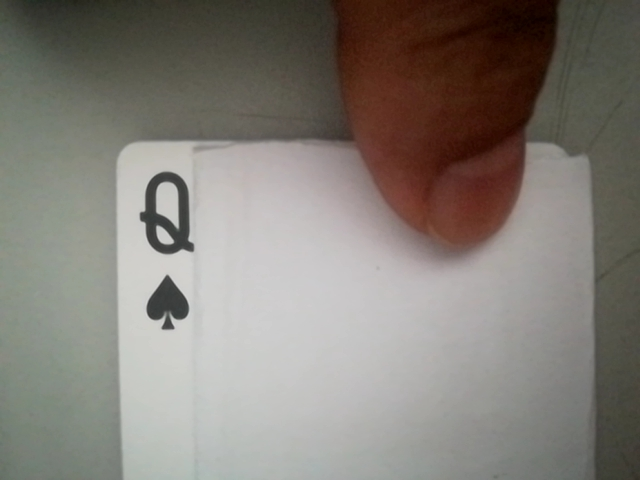ht q: (125, 160, 207, 336)
